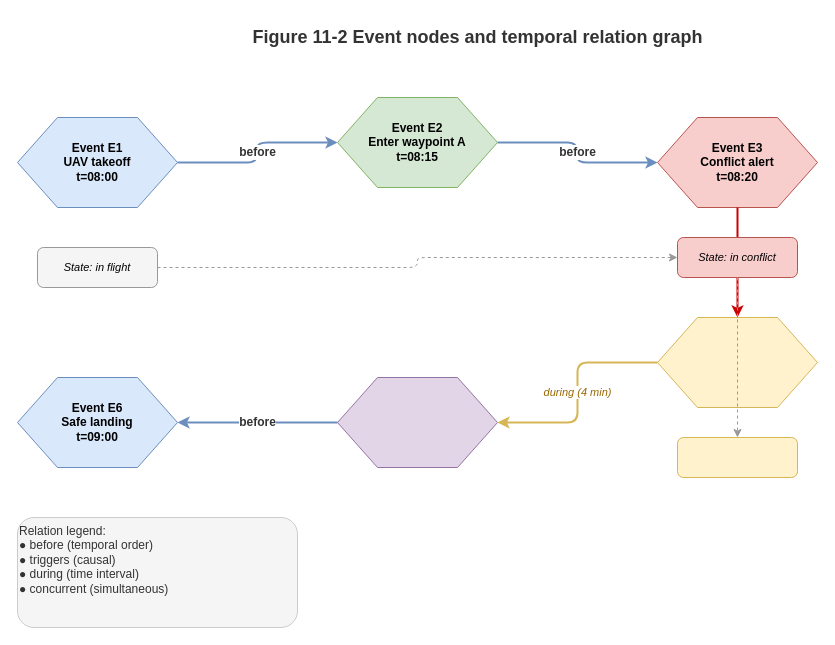
Image size: 835x645. Some labels were removed from this diagram. The shapes that lost their labels are listed below. From the top down, each one's box as (x1, y1, x2, y2) in pixels, then its label:
(656, 316, 818, 408): Event E4 Execute avoidance t=08:21–08:25
(336, 376, 498, 468): Event E5 Resume route t=08:30
(676, 436, 798, 478): State: avoiding
